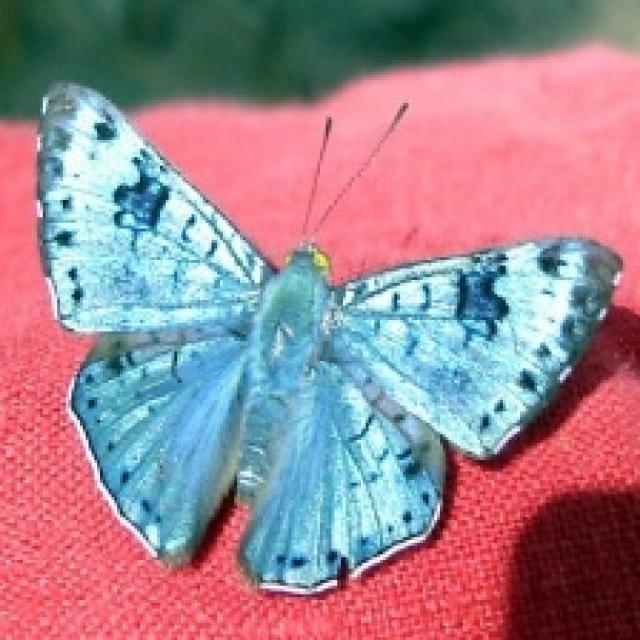butterfly: (31, 77, 623, 597)
